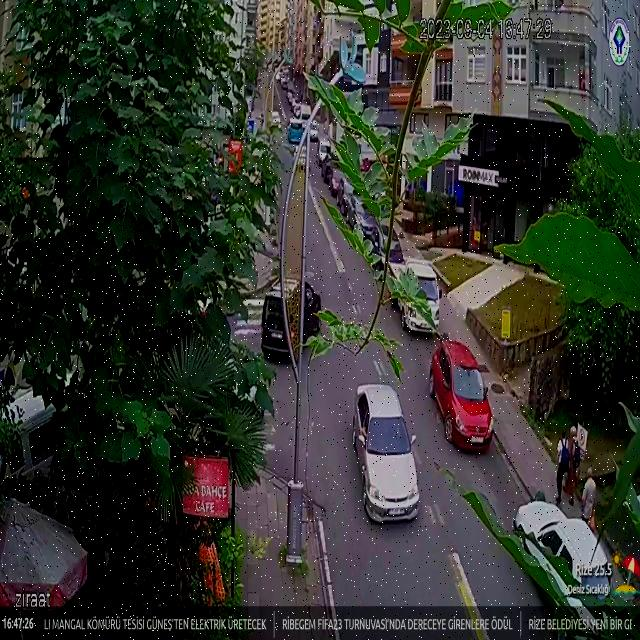Car: (513, 498, 614, 614), (349, 382, 423, 526), (429, 342, 494, 450), (308, 122, 319, 141), (286, 91, 295, 108), (280, 73, 288, 90)
Truck: (391, 262, 441, 334)
Van: (260, 282, 320, 362)
